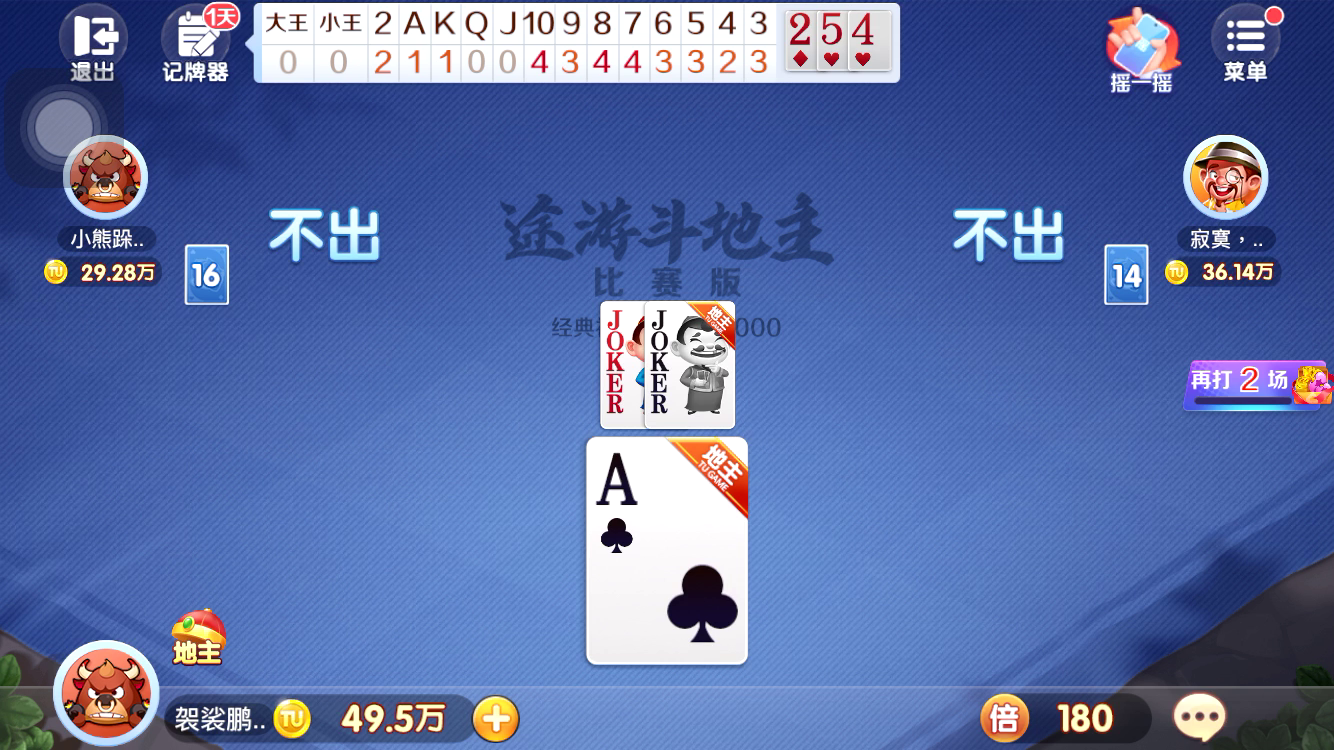A: (591, 445, 652, 519)
JOKER: (600, 303, 632, 375)
five: (818, 9, 846, 46)
four: (846, 11, 887, 48)
joker: (646, 306, 674, 373)
two: (782, 7, 815, 47)
